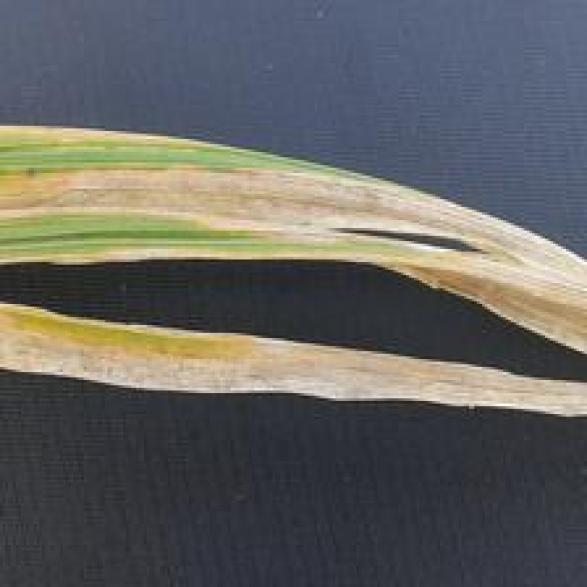Bacteria_Leaf_Blight: (3, 280, 584, 477), (11, 113, 576, 309)
